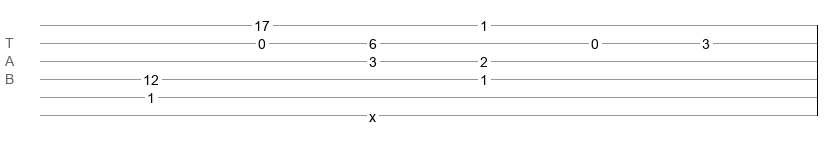0: (258, 36, 266, 46), (591, 36, 599, 46)
1: (147, 90, 155, 100), (480, 18, 488, 28), (480, 72, 488, 82)
12: (143, 72, 159, 82)
17: (254, 18, 270, 28)
2: (480, 54, 488, 64)
3: (369, 54, 377, 64), (702, 36, 710, 46)
6: (369, 36, 377, 46)
x: (369, 109, 376, 117)
